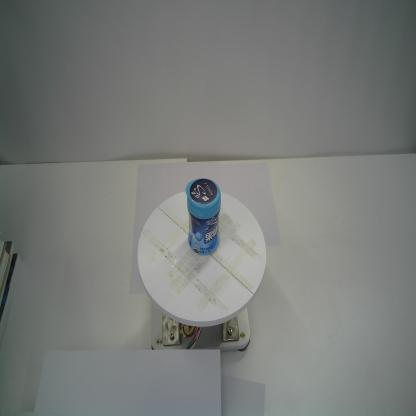Gum: (184, 178, 222, 256)
